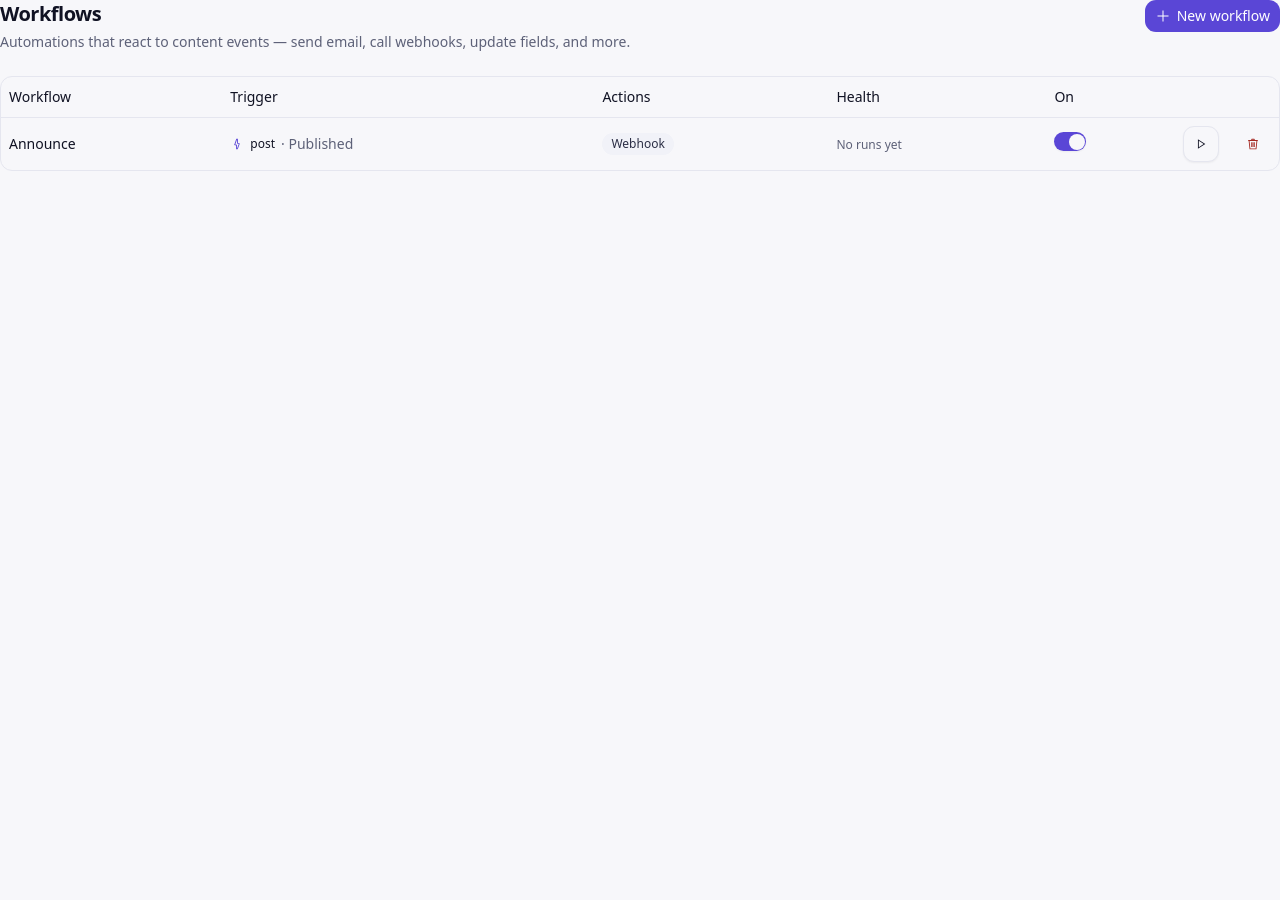
Test: the health tiles › opens the run now dialog from a row without opening the workflow
The image size is (1280, 900).
What coordinates should you click on to do the following:
click the button named "Run Announce now"
I would click on:
 (1201, 144)
Its box is [1183,126,1219,162].
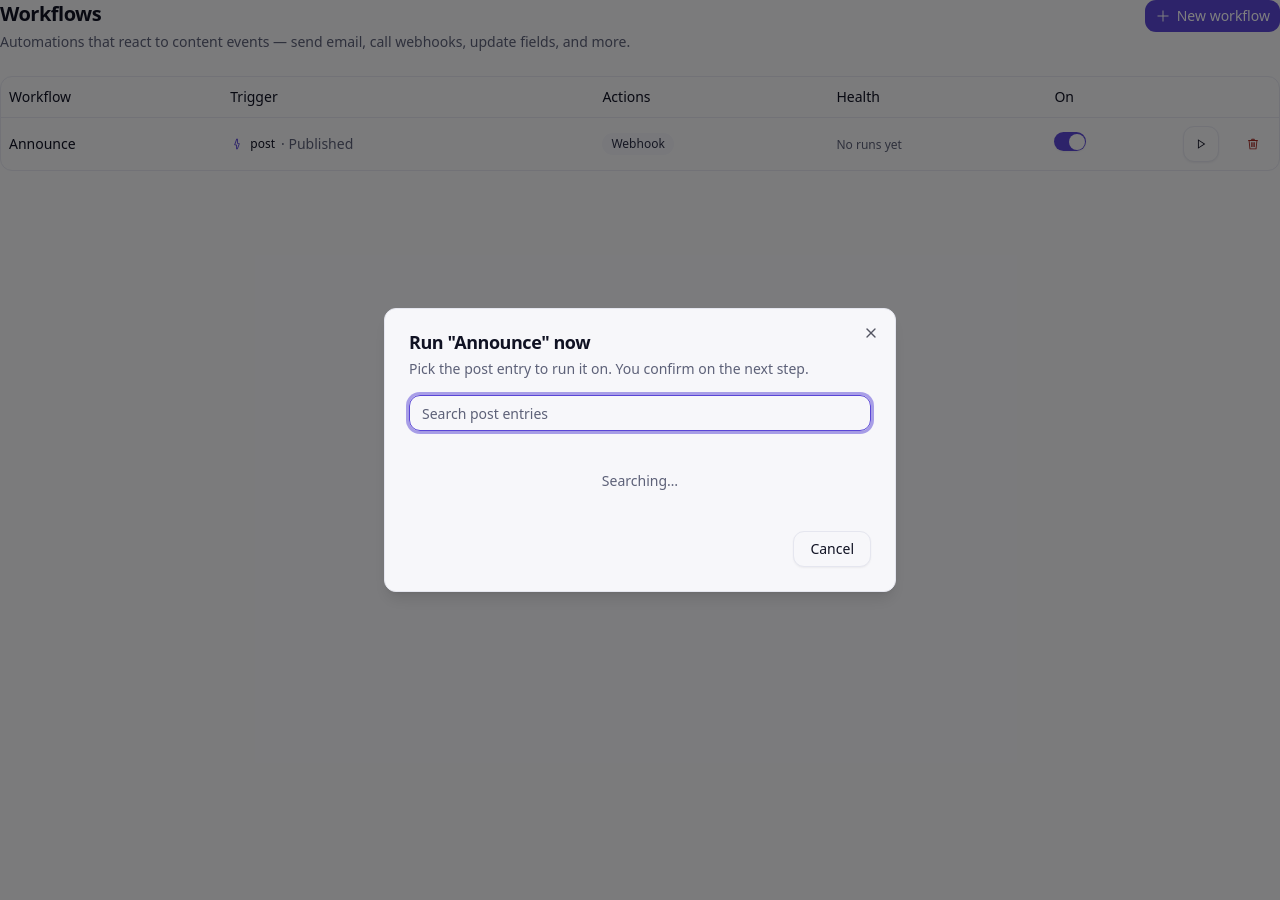
expect the dialog is shown: met, box [384,308,896,592]
